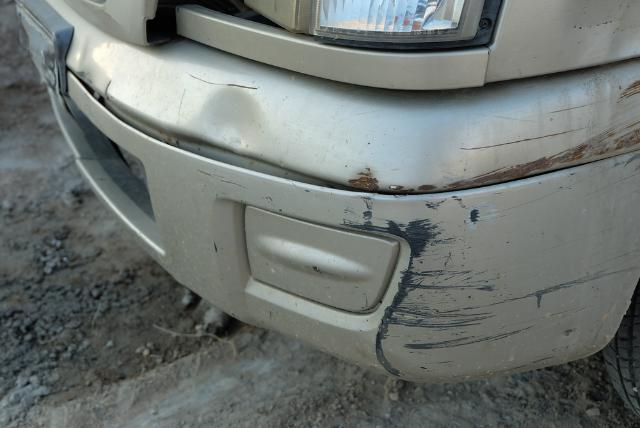dent: (192, 88, 273, 160)
scratch: (342, 153, 640, 386), (343, 75, 640, 199)
